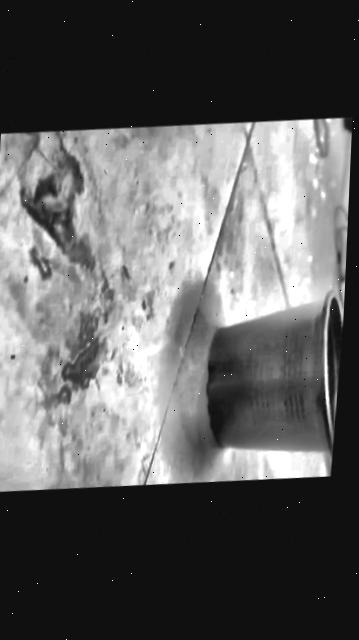pot: (197, 283, 345, 473)
